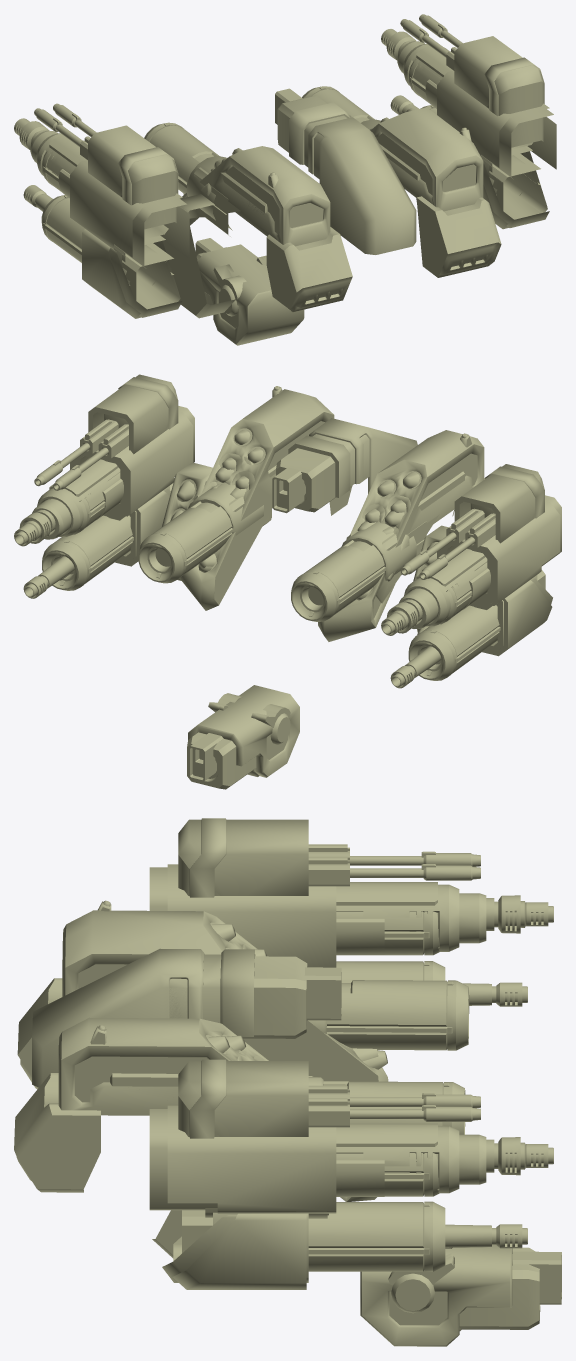
Rendered from FleaWeapons.glb.
3 views of the same model, one above another, from view 1: azimuth 30°, elevation 25°; view 2: azimuth 150°, elevation 25°; view 3: azimuth 270°, elevation 25° (orthographic). The views are drawn at different scales.
Parts seen in each view (by area): view 1: Torso_Left_MH1_Missile10, Torso_Right_MH1_Missile10, Head_EH1_Laser, Forearm_Right_BH3_MG, Torso_Center_EH1_Laser, Forearm_Left_BH3_MG, Head_EH1_Flamer, Forearm_Left_BH1_AC10, Forearm_Left_EH2_PPC, Forearm_Right_EH1_PPC, Torso_Left_EH1_PPC, Forearm_Right_BH2_AC2 (+20 smaller); view 2: Torso_Right_MH1_Missile10, Torso_Left_MH1_Missile10, Forearm_Left_BH1_AC10, Torso_Center_EH1_Laser, Head_EH1_Laser, Torso_Left_EH1_PPC, Forearm_Left_EH2_PPC, Torso_Right_EH1_PPC, Forearm_Left_BH3_MG, Forearm_Right_BH3_MG, Forearm_Right_EH2_PPC, Forearm_Right_EH1_PPC (+17 smaller); view 3: Forearm_Right_BH1_AC10, Torso_Right_MH1_Missile10, Forearm_Right_EH2_PPC, Head_EH1_Laser, Torso_Left_MH1_Missile10, Torso_Center_EH1_Laser, Forearm_Left_BH3_MG, Forearm_Right_BH3_MG, Forearm_Left_EH1_PPC, Torso_Left_EH1_PPC, Forearm_Left_BH1_AC10, Head_EH1_Flamer (+18 smaller).
Boxes of the visible parts, <box> form: Torso_Left_MH1_Missile10: <box>192,146,352,311</box>; Torso_Right_MH1_Missile10: <box>370,107,501,277</box>; Head_EH1_Laser: <box>277,96,416,254</box>; Forearm_Right_BH3_MG: <box>400,19,544,147</box>; Torso_Center_EH1_Laser: <box>196,244,304,345</box>; Forearm_Left_BH3_MG: <box>53,103,178,229</box>; Head_EH1_Flamer: <box>275,88,416,254</box>; Forearm_Left_BH1_AC10: <box>30,130,168,259</box>; Forearm_Left_EH2_PPC: <box>41,195,179,318</box>; Forearm_Right_EH1_PPC: <box>408,59,544,169</box>; Torso_Left_EH1_PPC: <box>144,122,232,230</box>; Forearm_Right_BH2_AC2: <box>390,95,549,227</box>; Torso_Right_MH1_Missile10: <box>182,386,352,610</box>; Torso_Left_MH1_Missile10: <box>318,430,484,635</box>; Forearm_Left_BH1_AC10: <box>399,502,560,628</box>; Torso_Center_EH1_Laser: <box>187,685,299,789</box>; Head_EH1_Laser: <box>276,418,417,512</box>; Torso_Left_EH1_PPC: <box>291,521,424,621</box>; Forearm_Left_EH2_PPC: <box>408,575,552,680</box>; Torso_Right_EH1_PPC: <box>138,483,263,583</box>; Forearm_Left_BH3_MG: <box>400,464,544,575</box>; Forearm_Right_BH3_MG: <box>53,374,178,490</box>; Forearm_Right_EH2_PPC: <box>42,485,169,590</box>; Forearm_Right_EH1_PPC: <box>72,412,193,534</box>; Forearm_Right_BH1_AC10: <box>167,1105,486,1218</box>; Torso_Right_MH1_Missile10: <box>14,1017,356,1201</box>; Forearm_Right_EH2_PPC: <box>172,1201,445,1289</box>; Head_EH1_Laser: <box>32,948,307,1087</box>; Torso_Left_MH1_Missile10: <box>17,900,388,1089</box>; Torso_Center_EH1_Laser: <box>360,1244,540,1346</box>; Forearm_Left_BH3_MG: <box>178,818,480,897</box>; Forearm_Right_BH3_MG: <box>178,1059,480,1138</box>; Forearm_Left_EH1_PPC: <box>167,864,439,967</box>; Torso_Left_EH1_PPC: <box>309,980,469,1050</box>; Forearm_Left_BH1_AC10: <box>336,882,486,955</box>; Head_EH1_Flamer: <box>32,954,341,1086</box>.
Bounding box in the file's own units: 1.14 × 0.7171 × 0.94.
